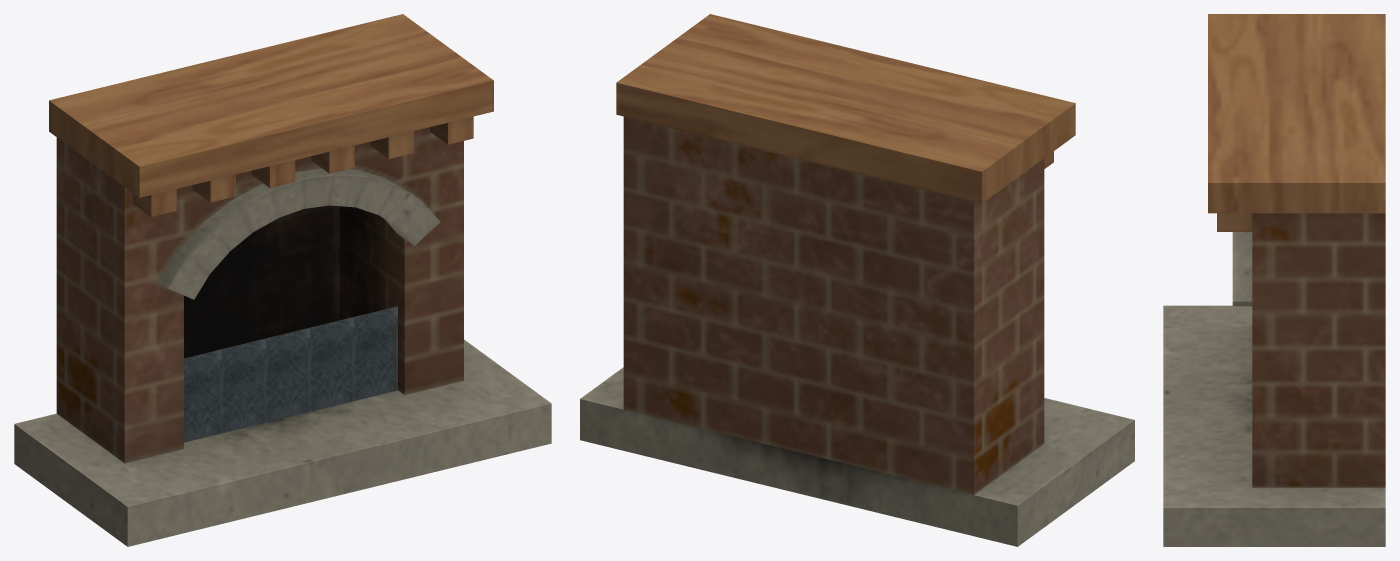
The model's file is sb_obj_indoor044_ FirePlace.fbx.
3 renders of one model, left to right at view 1: azimuth 30°, elevation 25°; view 2: azimuth 150°, elevation 25°; view 3: azimuth 270°, elevation 25°, orthographic. The views are drawn at different scales.
Parts seen in each view (by area): view 1: wood_low.001; view 2: wood_low.001; view 3: wood_low.001.
Boxes of the visible parts, x1,y1,x2,y2 form: wood_low.001: [14, 14, 551, 546]; wood_low.001: [580, 14, 1134, 546]; wood_low.001: [1163, 14, 1385, 546].
Bounding box in the file's own units: 1 × 0.8 × 0.464.
